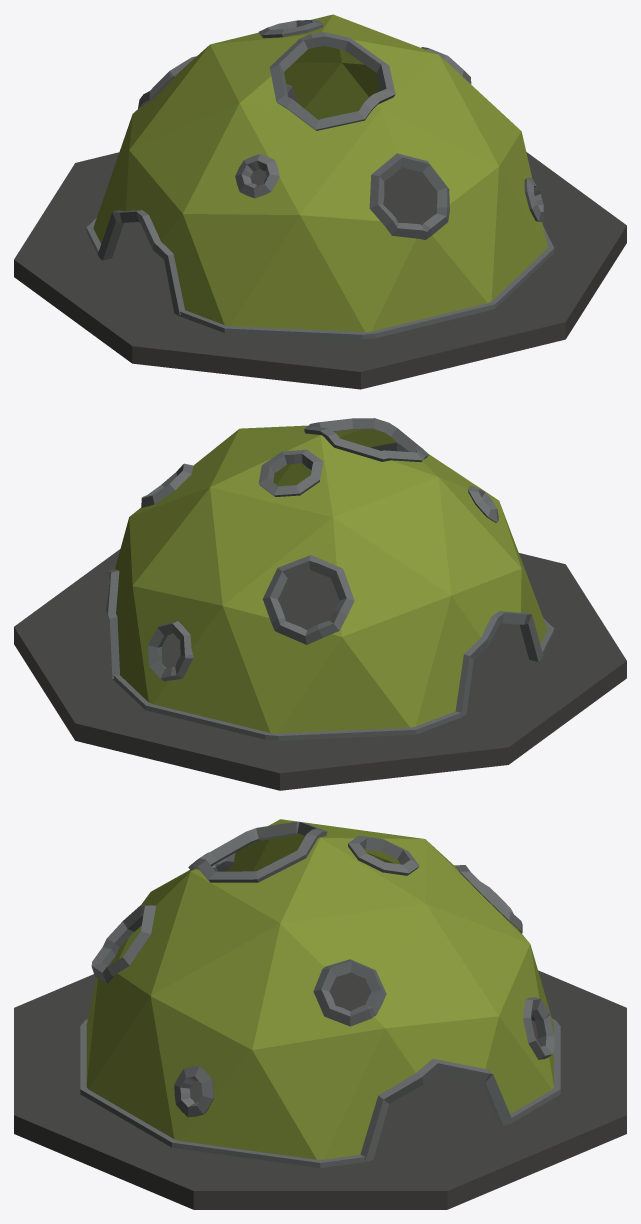
File: SM_Props_City_PlayGround_Equipment_04.fbx
3 renders of one model, top to bottom at view 1: azimuth 30°, elevation 25°; view 2: azimuth 150°, elevation 25°; view 3: azimuth 270°, elevation 25°, orthographic. The views are drawn at different scales.
Parts seen in each view (by area): view 1: SM_Props_City_PlayGround_Equipment_04; view 2: SM_Props_City_PlayGround_Equipment_04; view 3: SM_Props_City_PlayGround_Equipment_04.
Boxes of the visible parts, left/top/right/bottom form: SM_Props_City_PlayGround_Equipment_04: left=14, top=14, right=626, bottom=389; SM_Props_City_PlayGround_Equipment_04: left=14, top=418, right=626, bottom=790; SM_Props_City_PlayGround_Equipment_04: left=14, top=819, right=626, bottom=1209.
Bounding box in the file's own units: 296 × 131 × 296.
